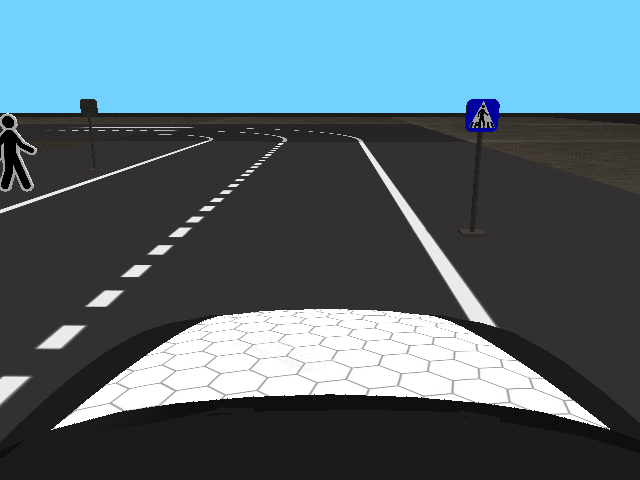pedestrian_cross: (464, 98, 500, 133)
